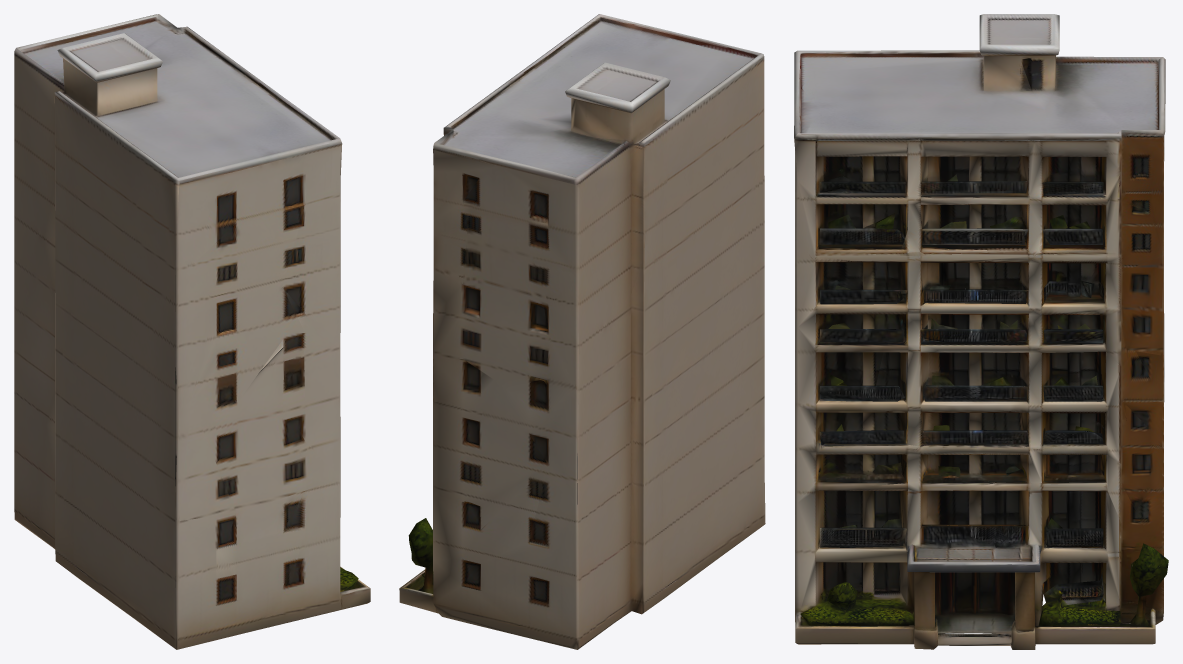
The model's file is apartment.glb.
The picture shows the model from 3 angles, left to right: view 1: azimuth 30°, elevation 25°; view 2: azimuth 150°, elevation 25°; view 3: azimuth 270°, elevation 25°; orthographic projection. The views are drawn at different scales.
Visible parts, largest first — view 1: tripo_node_1e1232f0-135c-42f7-9ff1-20f29054d2d3; view 2: tripo_node_1e1232f0-135c-42f7-9ff1-20f29054d2d3; view 3: tripo_node_1e1232f0-135c-42f7-9ff1-20f29054d2d3.
Boxes of the visible parts, <box> form: tripo_node_1e1232f0-135c-42f7-9ff1-20f29054d2d3: <box>14,14,370,649</box>; tripo_node_1e1232f0-135c-42f7-9ff1-20f29054d2d3: <box>399,14,765,649</box>; tripo_node_1e1232f0-135c-42f7-9ff1-20f29054d2d3: <box>794,14,1168,649</box>.
Bounding box in the file's own units: 0.4163 × 1 × 0.6319.
1 material, 1 textured.
